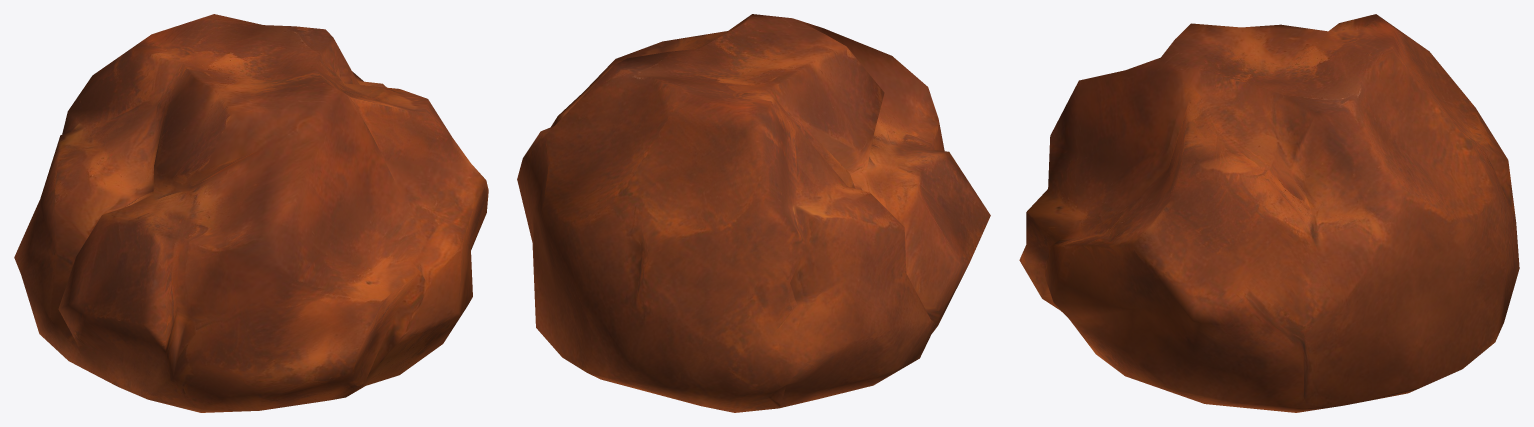
The model's file is rock_2.glb.
3 views of the same model, side by side, from view 1: azimuth 30°, elevation 25°; view 2: azimuth 150°, elevation 25°; view 3: azimuth 270°, elevation 25° (orthographic). The views are drawn at different scales.
Parts seen in each view (by area): view 1: tripo_node_42e1c9af-59a8-4eb4-b505-4ecda8991cb9; view 2: tripo_node_42e1c9af-59a8-4eb4-b505-4ecda8991cb9; view 3: tripo_node_42e1c9af-59a8-4eb4-b505-4ecda8991cb9.
Part boxes in pixels (box(x1,y1,x2,y2)): tripo_node_42e1c9af-59a8-4eb4-b505-4ecda8991cb9: box(14, 14, 488, 412); tripo_node_42e1c9af-59a8-4eb4-b505-4ecda8991cb9: box(517, 14, 990, 412); tripo_node_42e1c9af-59a8-4eb4-b505-4ecda8991cb9: box(1019, 14, 1519, 412).
Bounding box in the file's own units: 0.9867 × 0.6819 × 1.
Materials: 1 (1 with a texture image).
